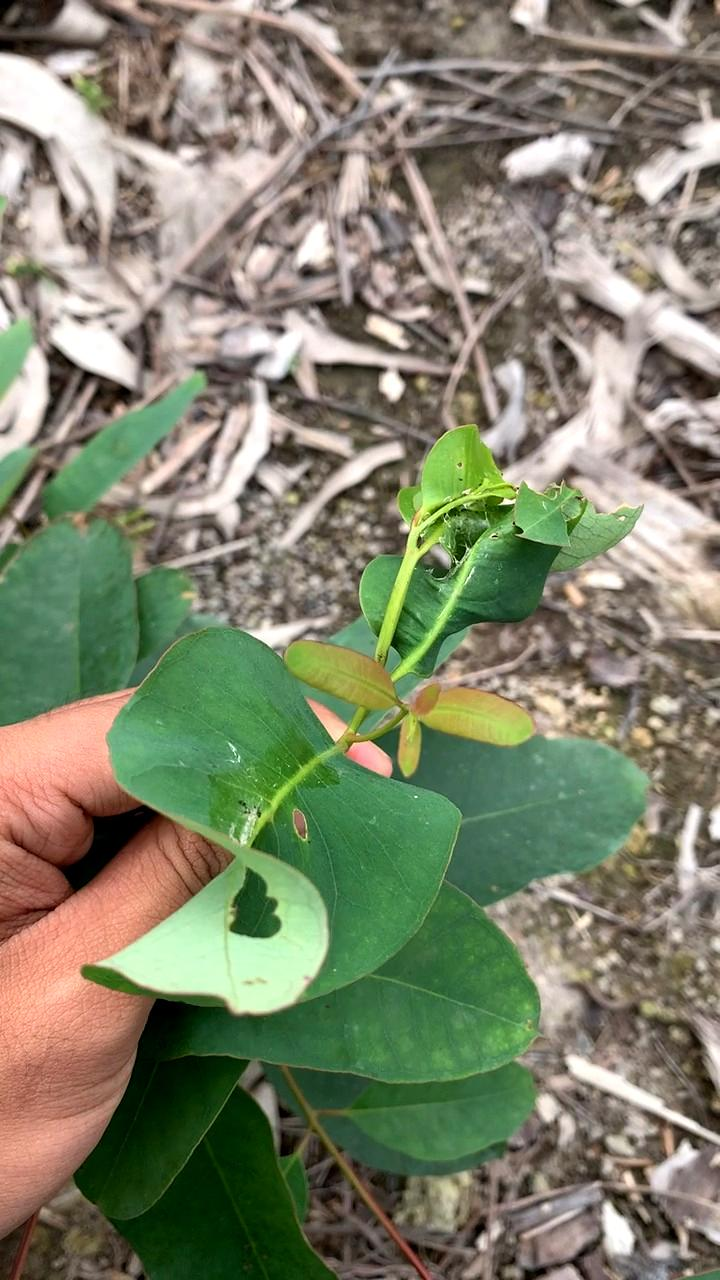Leaf Roller - Leaf: (346, 426, 637, 667)
